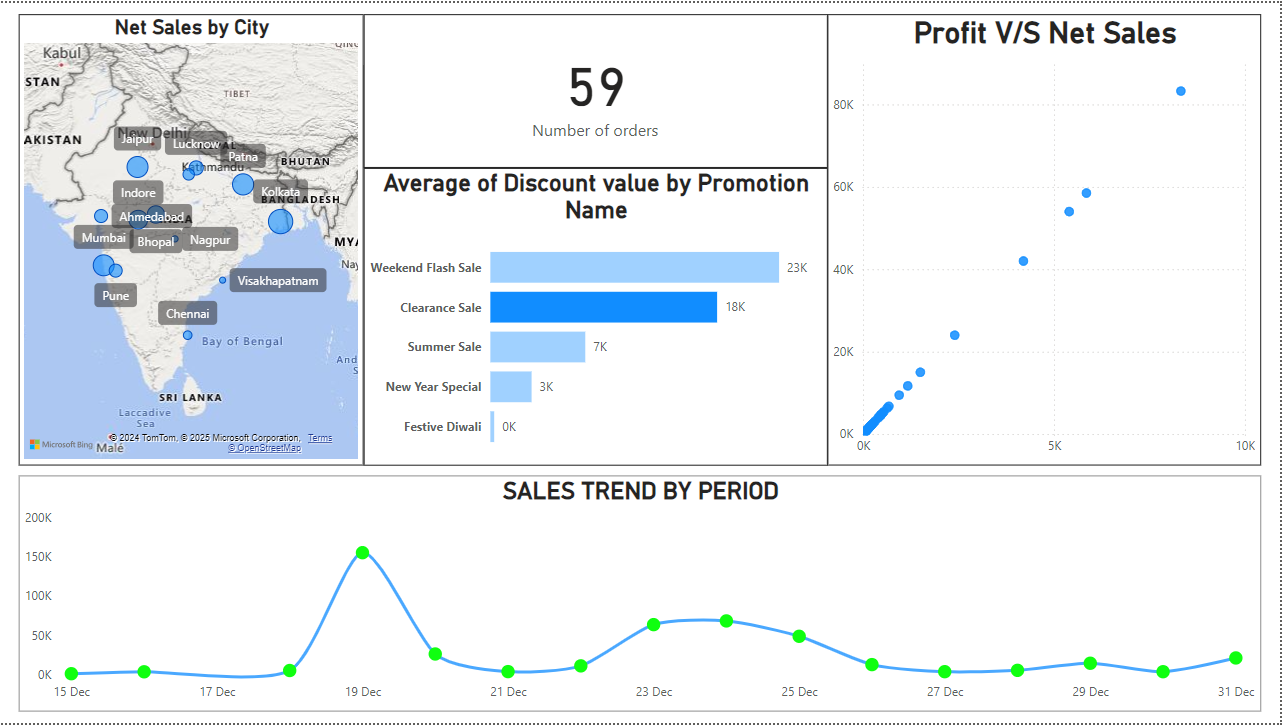

The dashboard page shown, as its layout file describes it:
{"tool":"powerbi","page":{"name":"OVERVIEW: SALES","canvas":[1280,720],"ordinal":0},"visuals":[{"type":"lineChart","title":"SALES TREND BY PERIOD","fields":{"Y":["Sum(Fact Table.Net Sales)"],"Category":["Fact Table.Date (dd/mm/yyyy).Variation.Date Hierarchy.Year","Fact Table.Date (dd/mm/yyyy).Variation.Date Hierarchy.Quarter","Fact Table.Date (dd/mm/yyyy).Variation.Date Hierarchy.Month","Fact Table.Date (dd/mm/yyyy).Variation.Date Hierarchy.Day"]},"box":[18.8,472.5,1242.5,236.2],"z":0},{"type":"scatterChart","title":"Profit V/S Net Sales","fields":{"X":["Fact Table.Profit"],"Y":["Fact Table.Net Sales"]},"box":[827.5,11.2,433.8,451.2],"z":1000},{"type":"barChart","fields":{"Category":["Dim Promotion.Promotion Name"],"Y":["Avg(Fact Table.Discount value)"]},"box":[363.8,165,463.8,297.5],"z":2000},{"type":"map","fields":{"Category":["Dim Customers.City"],"Size":["Sum(Fact Table.Net Sales)"]},"box":[18.8,11.2,345,451.2],"z":3000},{"type":"card","fields":{"Values":["Count(Fact Table.ORDER_ID)"]},"box":[363.8,11.2,463.8,153.8],"z":3001}]}

Visuals, with their boxes in screenshot pixels (x1, y1, x2, y2), scaled from the page's 1280x720 canvas onto the 1285x727 screenshot:
"SALES TREND BY PERIOD" lineChart: 19 477 1266 716
"Profit V/S Net Sales" scatterChart: 831 11 1266 467
barChart - Dim Promotion.Promotion Name x Avg(Fact Table.Discount value): 365 167 831 467
map - Dim Customers.City x Sum(Fact Table.Net Sales): 19 11 365 467
card - Count(Fact Table.ORDER_ID): 365 11 831 167
